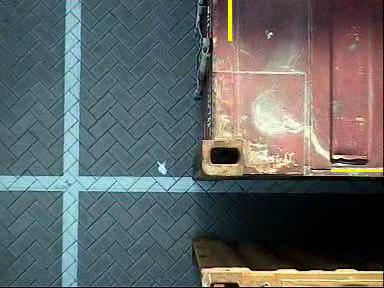groundmarker_2: (141, 68, 197, 109), (137, 242, 193, 282)
